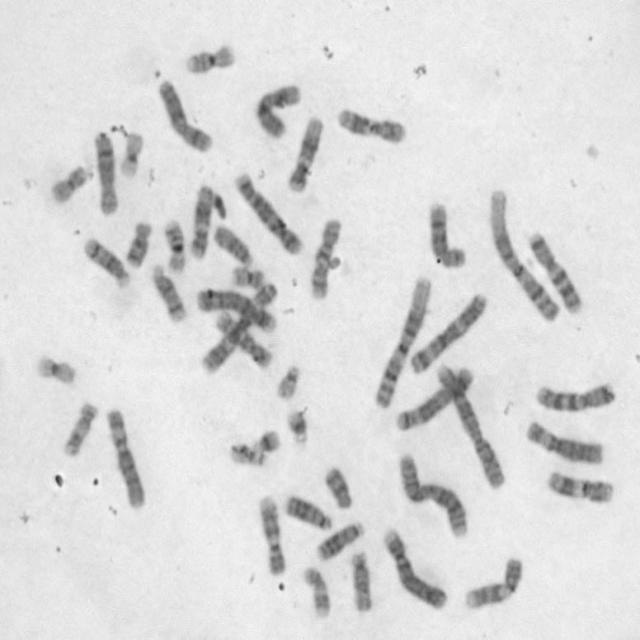A1: (486, 186, 563, 326), (372, 275, 435, 413)
A2: (434, 361, 506, 490), (395, 452, 469, 538)
A3: (197, 281, 277, 375), (410, 293, 491, 375)
B4: (379, 525, 451, 611), (194, 288, 274, 334)
B5: (231, 172, 305, 256), (395, 365, 475, 431)
C10: (212, 310, 274, 371), (308, 218, 342, 302)
C11: (336, 106, 406, 144), (545, 468, 615, 504)
C12: (286, 114, 323, 192), (189, 184, 214, 260)
C6: (106, 408, 148, 507), (524, 418, 604, 466)
C7: (526, 227, 586, 318), (534, 380, 617, 414)
C8: (427, 200, 467, 268), (94, 132, 121, 215)
C9: (464, 555, 524, 610), (256, 495, 286, 575)
D13: (314, 522, 366, 564), (282, 494, 334, 530)
D14: (83, 235, 131, 290), (151, 261, 189, 324)
D15: (212, 223, 255, 267), (350, 548, 375, 614)
E16: (185, 44, 238, 76), (163, 218, 188, 274)
E17: (62, 402, 99, 458), (302, 565, 332, 621)
E18: (122, 222, 153, 272), (324, 466, 354, 510)
F19: (37, 352, 76, 387), (120, 132, 146, 180)
F20: (51, 162, 86, 205), (230, 263, 266, 289)
G21: (286, 408, 311, 444), (253, 428, 280, 456)
G22: (276, 363, 303, 401), (230, 442, 268, 467)
X: (158, 78, 213, 154), (252, 82, 302, 138)
